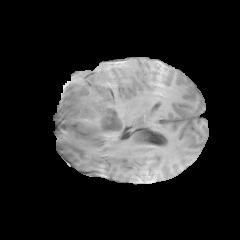glioma: (57, 61, 124, 143)
